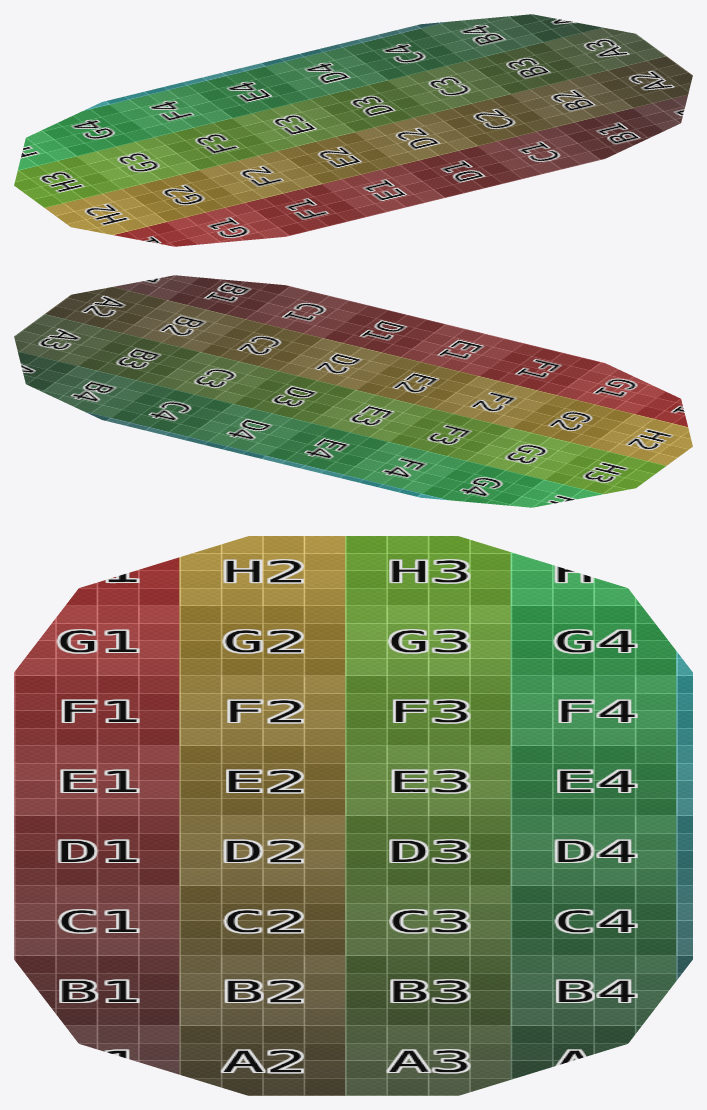
Rendered from default_arena.glb.
3 renders of one model, top to bottom at view 1: azimuth 30°, elevation 25°; view 2: azimuth 150°, elevation 25°; view 3: azimuth 270°, elevation 25°, orthographic. The views are drawn at different scales.
Parts seen in each view (by area): view 1: arena; view 2: arena; view 3: arena.
Part boxes in pixels (box(x1,y1,x2,y2)): arena: box(14, 14, 692, 246); arena: box(14, 275, 692, 507); arena: box(14, 536, 692, 1095).
Size of the model in its own units: 105 by 0 by 54.06.
1 material, 1 textured.
